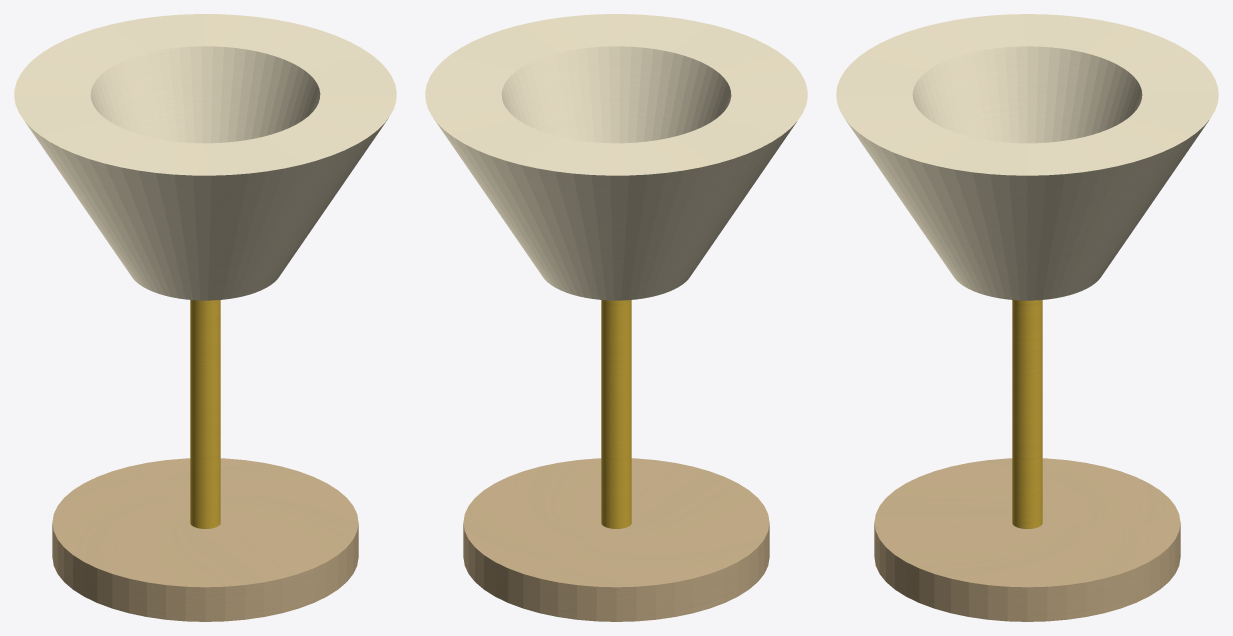
3 views of the same model, side by side, from view 1: azimuth 30°, elevation 25°; view 2: azimuth 150°, elevation 25°; view 3: azimuth 270°, elevation 25° (orthographic).
Visible parts, largest first — view 1: part_0, part_2, part_1; view 2: part_0, part_2, part_1; view 3: part_0, part_2, part_1.
Boxes of the visible parts, left/top/right/bottom form: part_0: left=14, top=14, right=396, bottom=300; part_2: left=52, top=458, right=358, bottom=621; part_1: left=190, top=300, right=220, bottom=528; part_0: left=425, top=14, right=807, bottom=300; part_2: left=463, top=458, right=769, bottom=621; part_1: left=601, top=300, right=631, bottom=528; part_0: left=836, top=14, right=1218, bottom=300; part_2: left=874, top=458, right=1180, bottom=621; part_1: left=1012, top=300, right=1042, bottom=528.
Size of the model in its own units: 0.75 by 1 by 0.75.
Materials: 3 (3 with a texture image).
